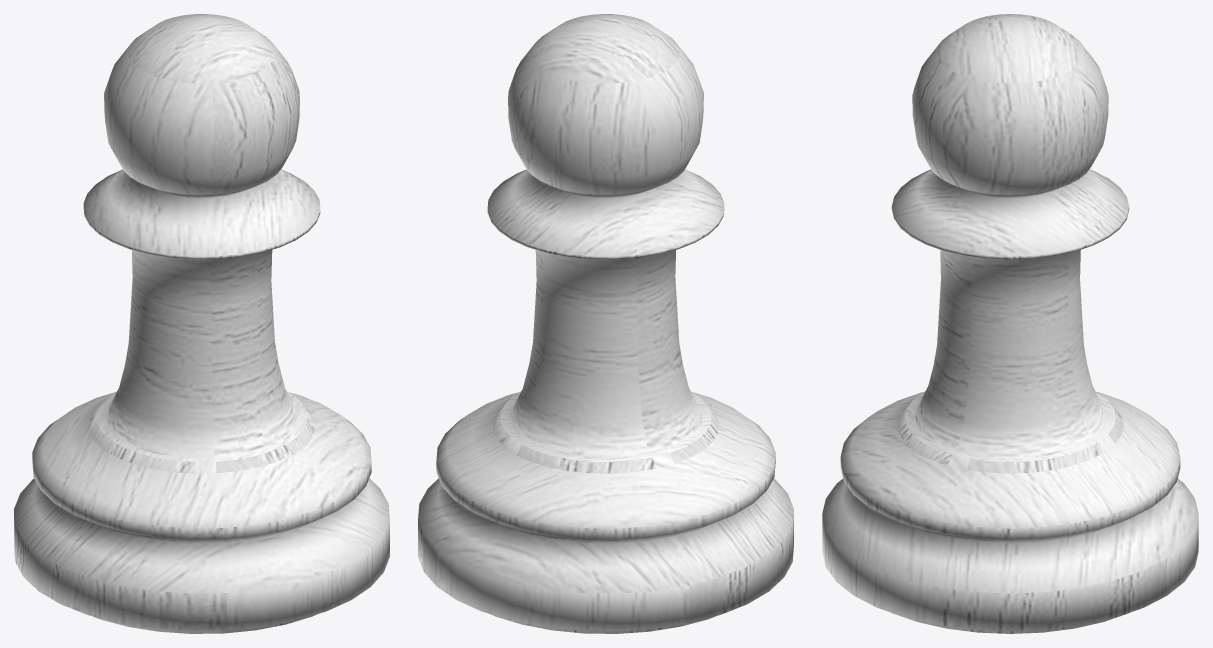
The model's file is peon-white.fbx.
The picture shows the model from 3 angles, left to right: view 1: azimuth 30°, elevation 25°; view 2: azimuth 150°, elevation 25°; view 3: azimuth 270°, elevation 25°; orthographic projection.
Parts seen in each view (by area): view 1: Peon.001; view 2: Peon.001; view 3: Peon.001.
Boxes of the visible parts, <box> form: Peon.001: <box>14,14,389,633</box>; Peon.001: <box>418,14,793,633</box>; Peon.001: <box>822,14,1198,633</box>.
Bounding box in the file's own units: 97.17 × 153 × 97.17.
1 material, 1 textured.
